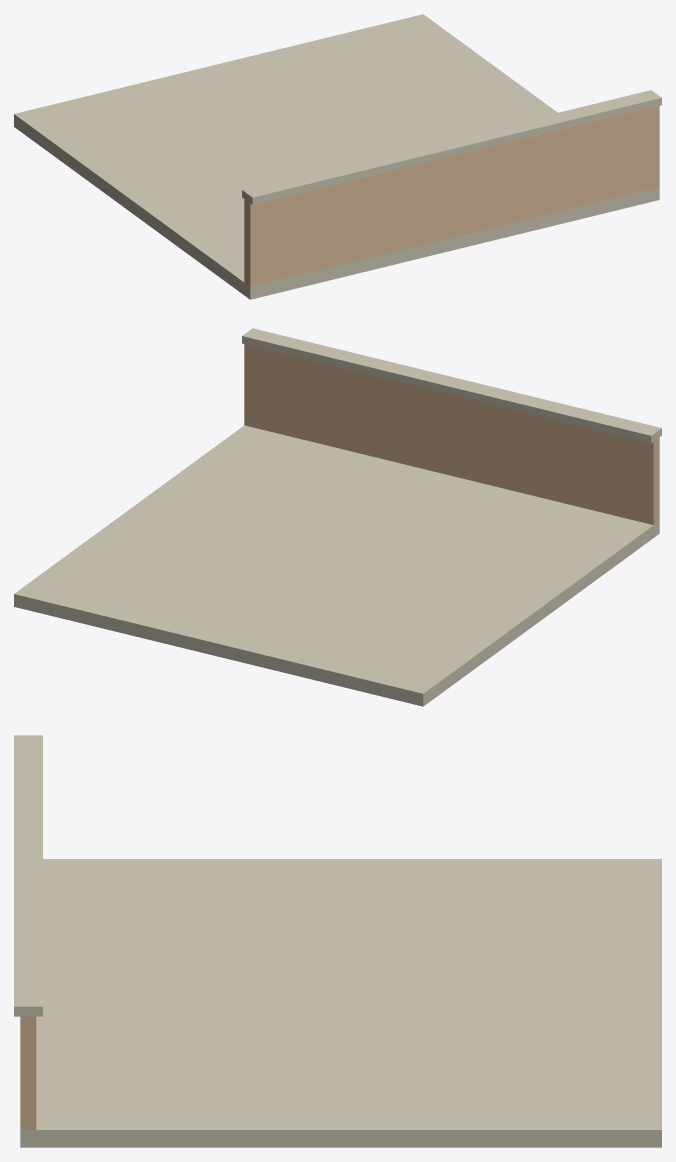
File: district-1-2-2.glb
The picture shows the model from 3 angles, top to bottom: view 1: azimuth 30°, elevation 25°; view 2: azimuth 150°, elevation 25°; view 3: azimuth 270°, elevation 25°; orthographic projection. The views are drawn at different scales.
Visible parts, largest first — view 1: stone.025, plaster.022; view 2: stone.025, plaster.022; view 3: stone.025, plaster.022.
Boxes of the visible parts, box(x1,y1,x2,y2) form: stone.025: box(14, 14, 661, 299); plaster.022: box(244, 106, 659, 286); stone.025: box(14, 328, 661, 706); plaster.022: box(244, 344, 659, 524); stone.025: box(14, 735, 661, 1147); plaster.022: box(20, 1016, 36, 1129).
Bounding box in the file's own units: 8 × 1.94 × 8.08.
